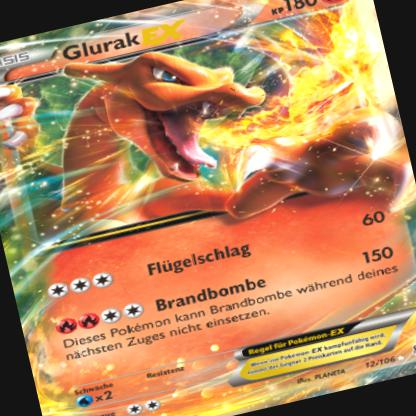Charizard: (1, 1, 405, 253)
